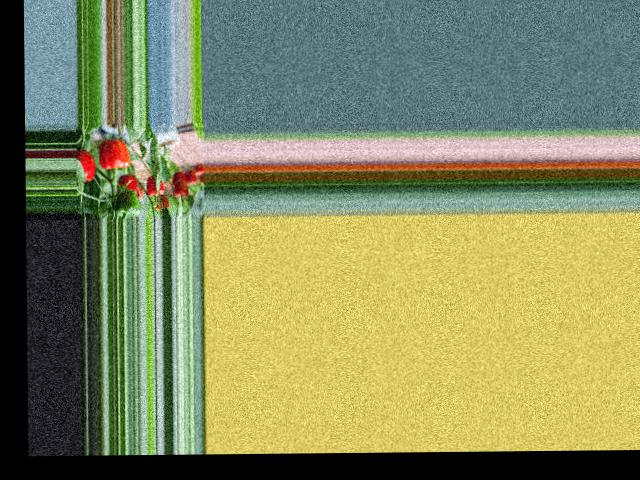bell_pepper: (146, 170, 166, 201)
